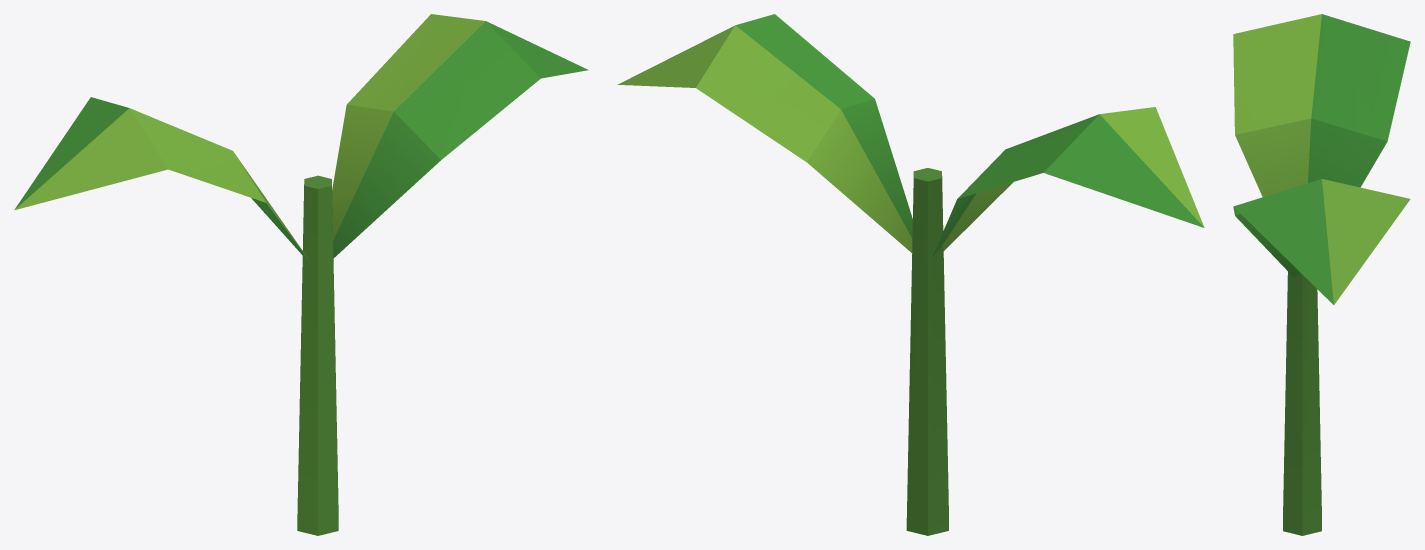
File: Apple_1.glb
3 renders of one model, left to right at view 1: azimuth 30°, elevation 25°; view 2: azimuth 150°, elevation 25°; view 3: azimuth 270°, elevation 25°, orthographic. The views are drawn at different scales.
Parts seen in each view (by area): view 1: Apple_1; view 2: Apple_1; view 3: Apple_1.
Part boxes in pixels (<box>): Apple_1: <box>14,14,588,535</box>; Apple_1: <box>617,14,1204,535</box>; Apple_1: <box>1233,14,1410,535</box>.
Size of the model in its own units: 0.3328 by 0.251 by 0.0939.
